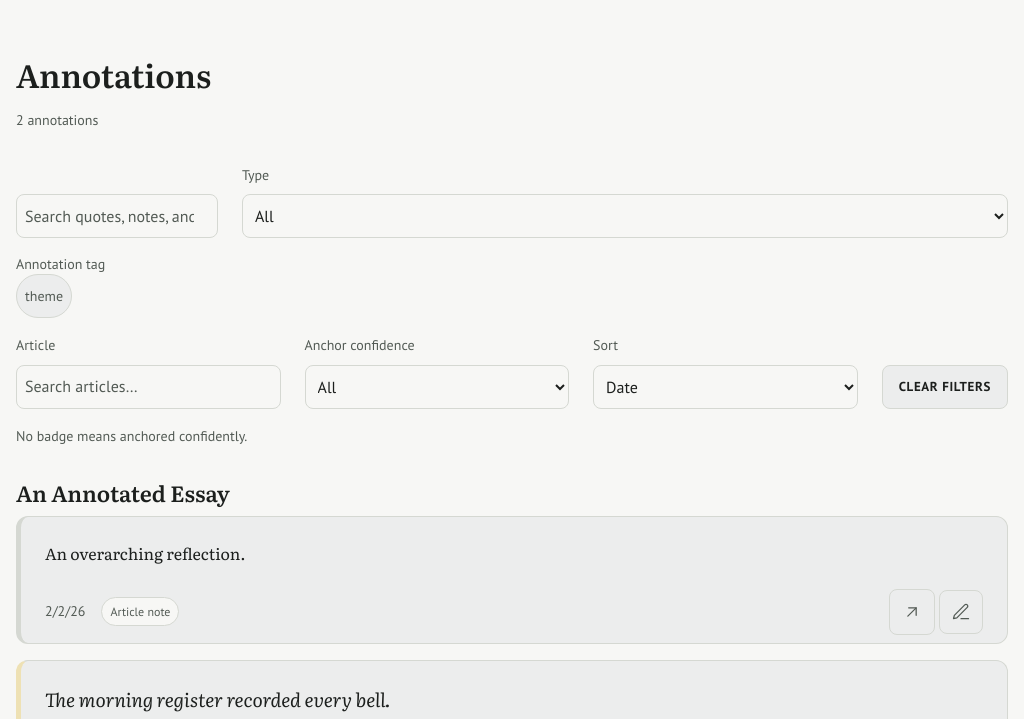
Test: ReviewView article-note rows (issue #210) › reopens from fresh saved text even while the review snapshot is stale
Later steps or results of the test are not shown.
Click the button named "Edit article note: An overarching reflection." at (961, 612), box [939,590,983,634]
(page scrolled)
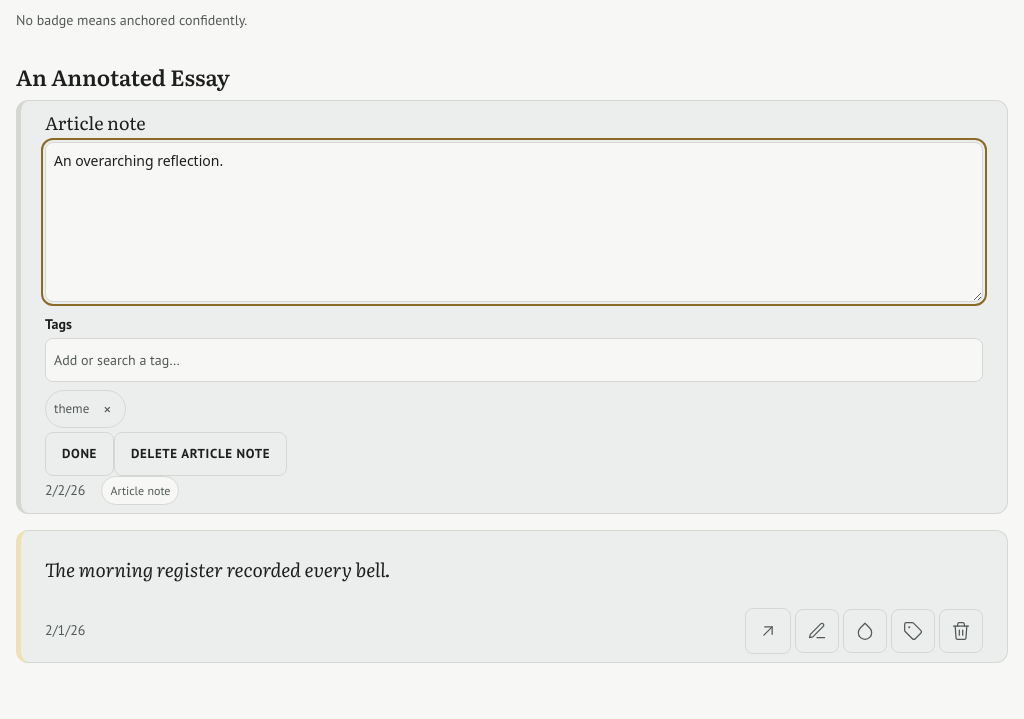
Click the button "Done" at (80, 454), box [45,432,114,476]
(page scrolled)
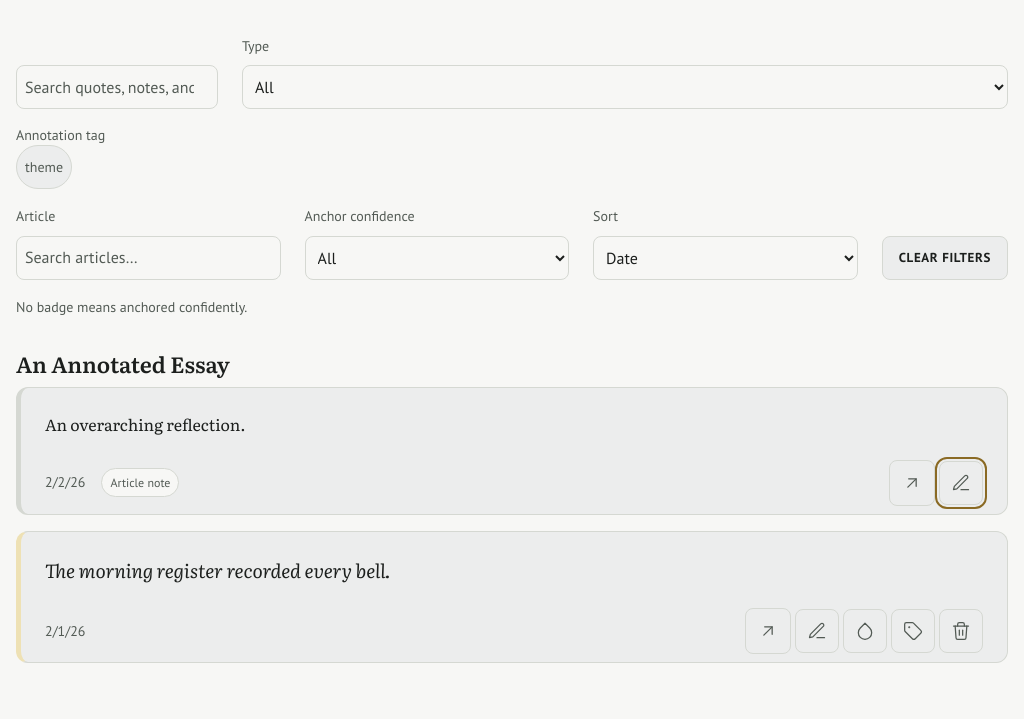
Click the button named "Edit article note: An overarching reflection." at (961, 483), box [939,461,983,505]
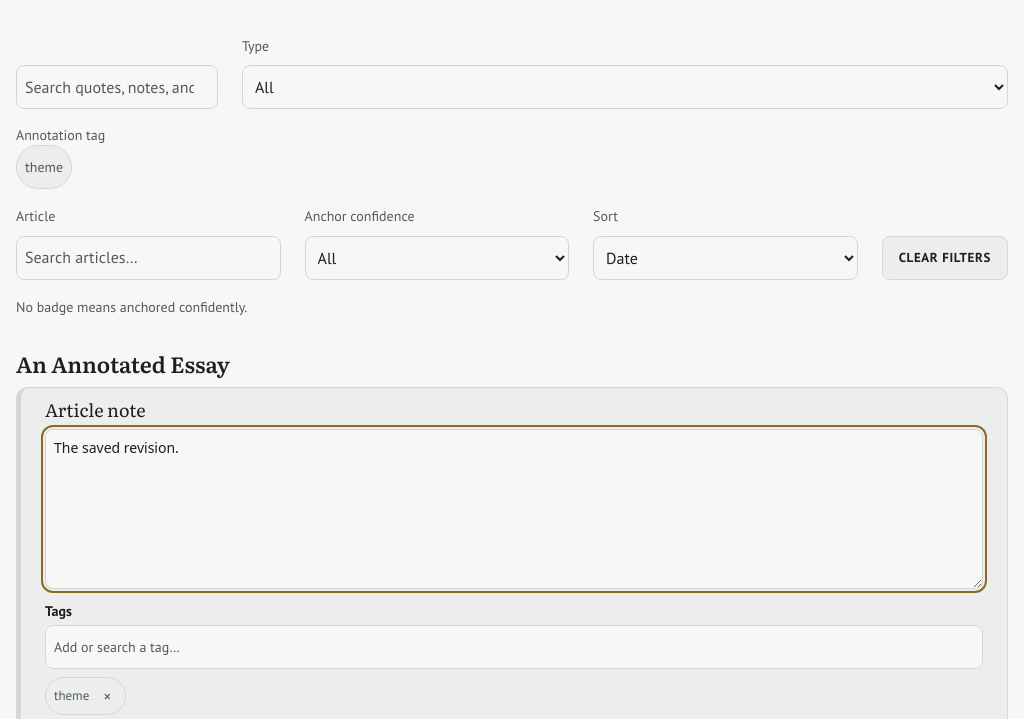
Expected: the text box labelled "Article note" holds "The saved revision.", [45,429,983,589]
